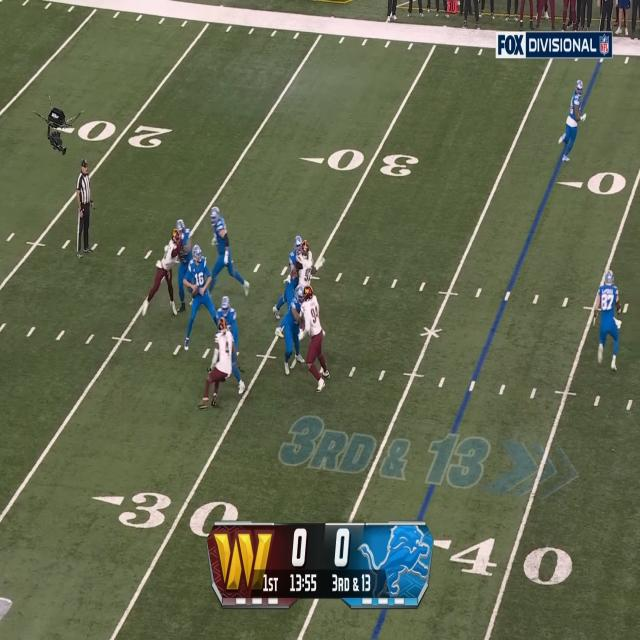Ball: (192, 286, 199, 298)
